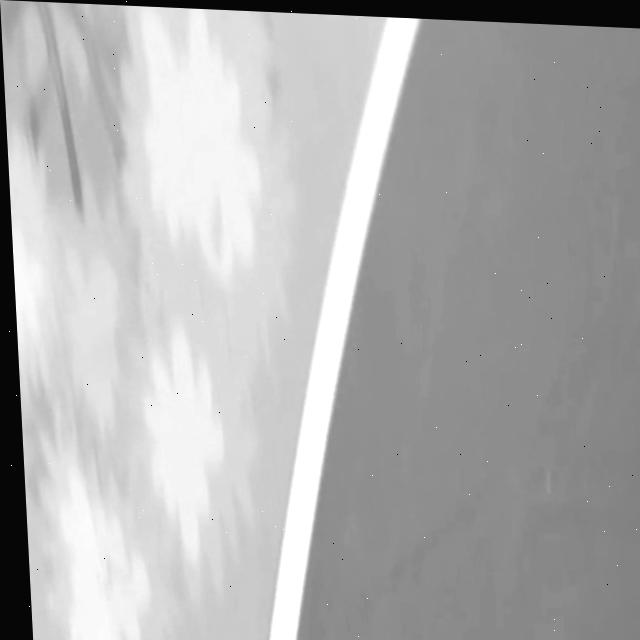right: (271, 17, 421, 640)
